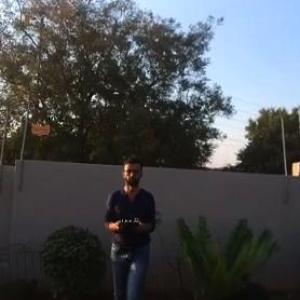follow: (98, 153, 161, 299)
